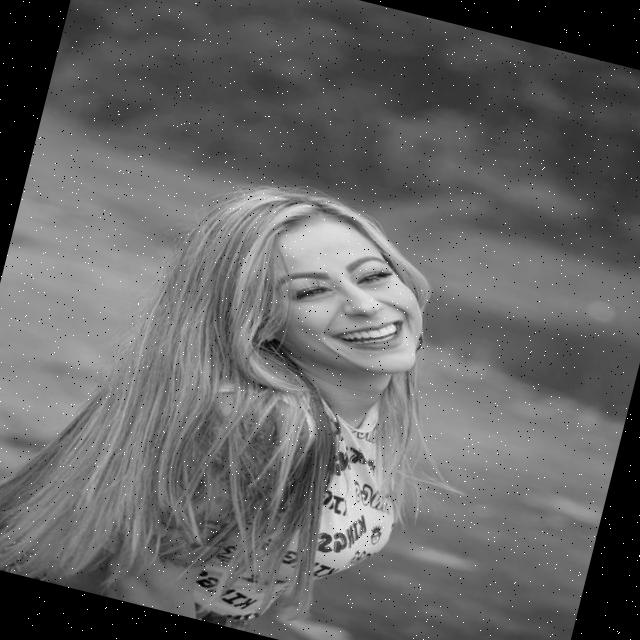Happiness: (250, 203, 449, 384)
